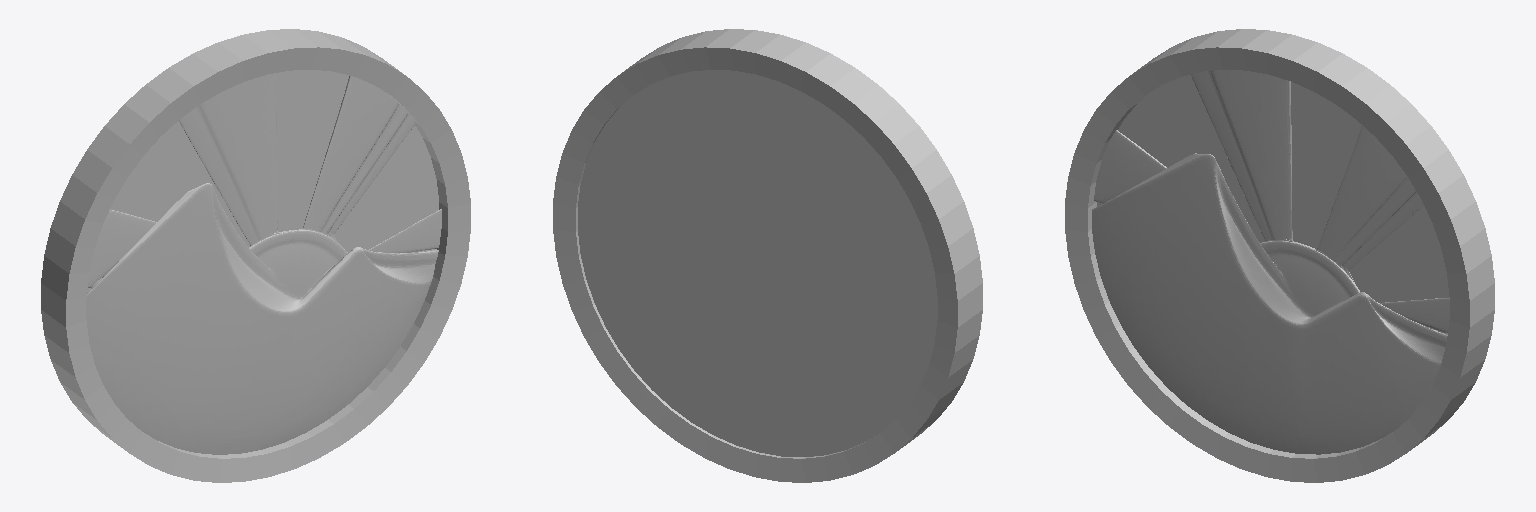
Rendered from Skooter Badge.obj.
The picture shows the model from 3 angles: view 1: azimuth 30°, elevation 25°; view 2: azimuth 150°, elevation 25°; view 3: azimuth 330°, elevation 25°; orthographic projection.
Parts seen in each view (by area): view 1: Circle; view 2: Circle; view 3: Circle.
Boxes of the visible parts, box(x1,y1,x2,y2) form: Circle: box(41, 29, 470, 482); Circle: box(553, 29, 982, 482); Circle: box(1065, 29, 1494, 482).
Bounding box in the file's own units: 1.89 × 1.9 × 0.2047.